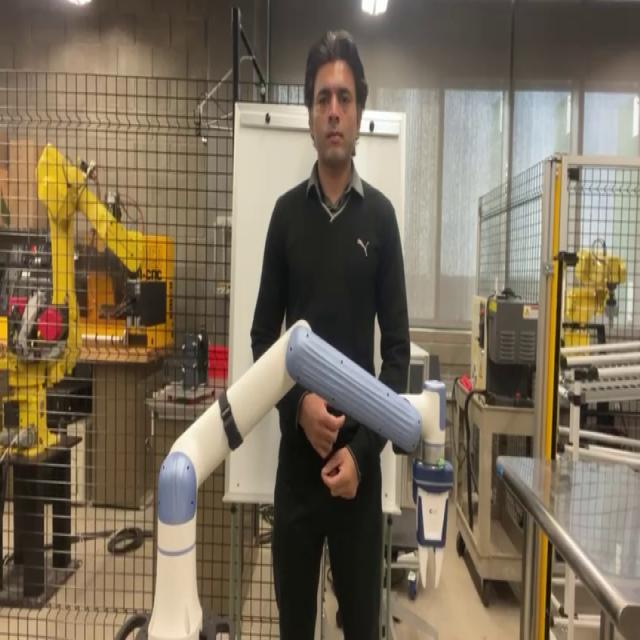human: (249, 28, 411, 637)
